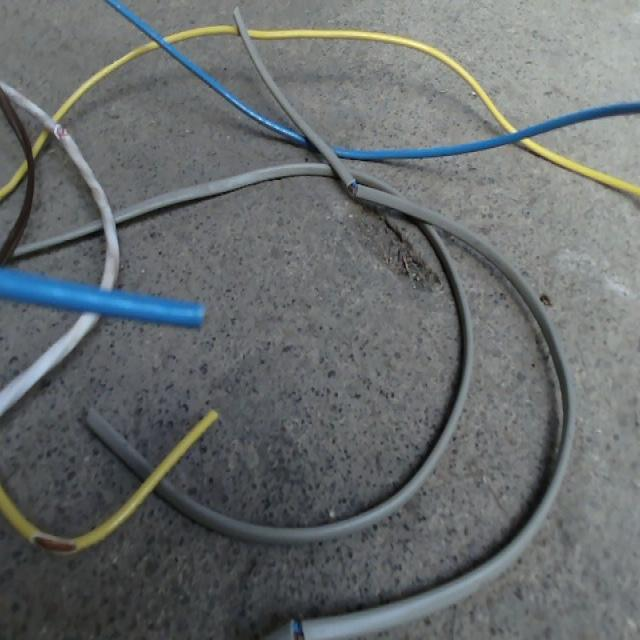-: (28, 532, 78, 557), (54, 120, 70, 141), (346, 179, 358, 196)
